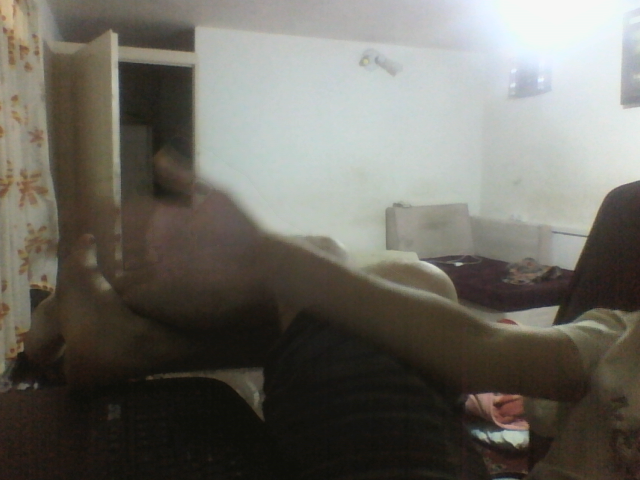taslim: (88, 143, 257, 313)
